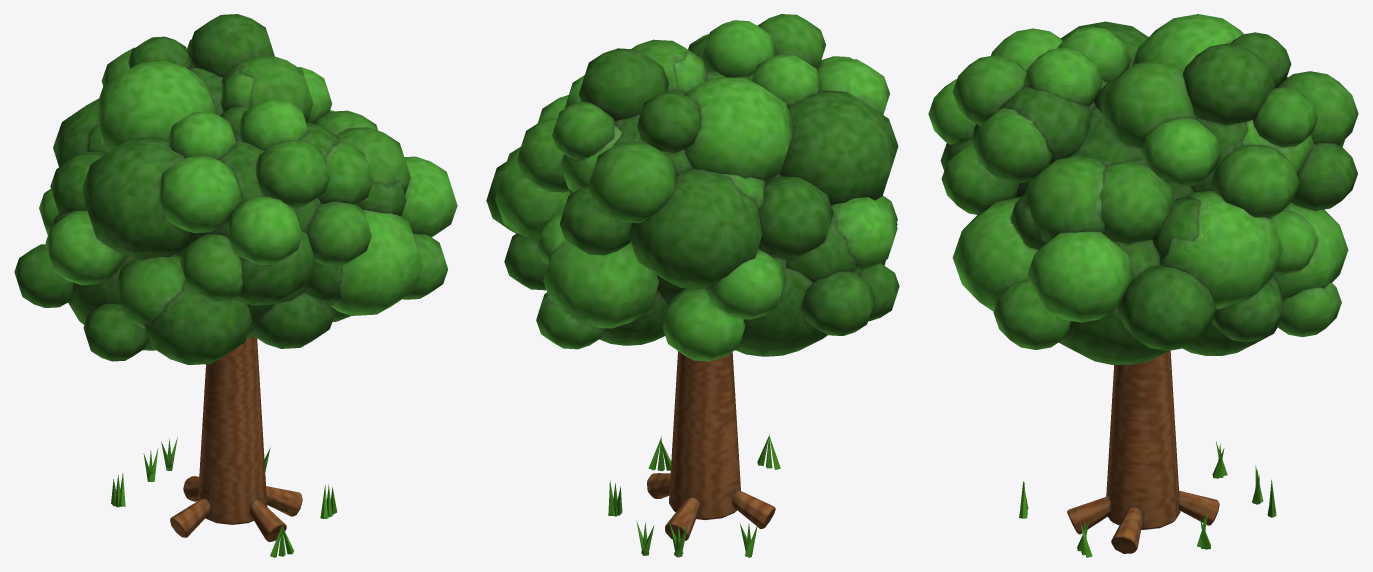
File: greengage_tree.glb
3 renders of one model, left to right at view 1: azimuth 30°, elevation 25°; view 2: azimuth 150°, elevation 25°; view 3: azimuth 270°, elevation 25°, orthographic. The views are drawn at different scales.
Parts seen in each view (by area): view 1: crown, greengage_tree; view 2: crown, greengage_tree; view 3: crown, greengage_tree.
Part boxes in pixels (bbox=[...]): crown: bbox=[14, 14, 457, 364]; greengage_tree: bbox=[111, 337, 337, 557]; crown: bbox=[486, 14, 899, 361]; greengage_tree: bbox=[608, 351, 780, 557]; crown: bbox=[928, 14, 1358, 364]; greengage_tree: bbox=[1019, 350, 1276, 557].
Size of the model in its own units: 1.13 by 1.31 by 1.03.
1 material, 1 textured.
